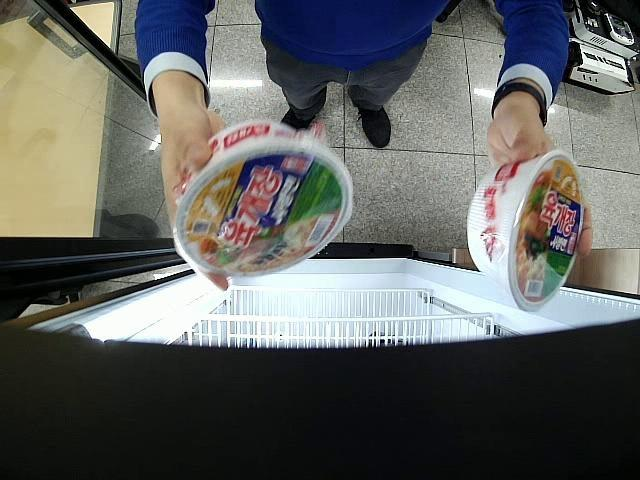09_yukGaeJang: (176, 120, 354, 276), (467, 150, 584, 314)
